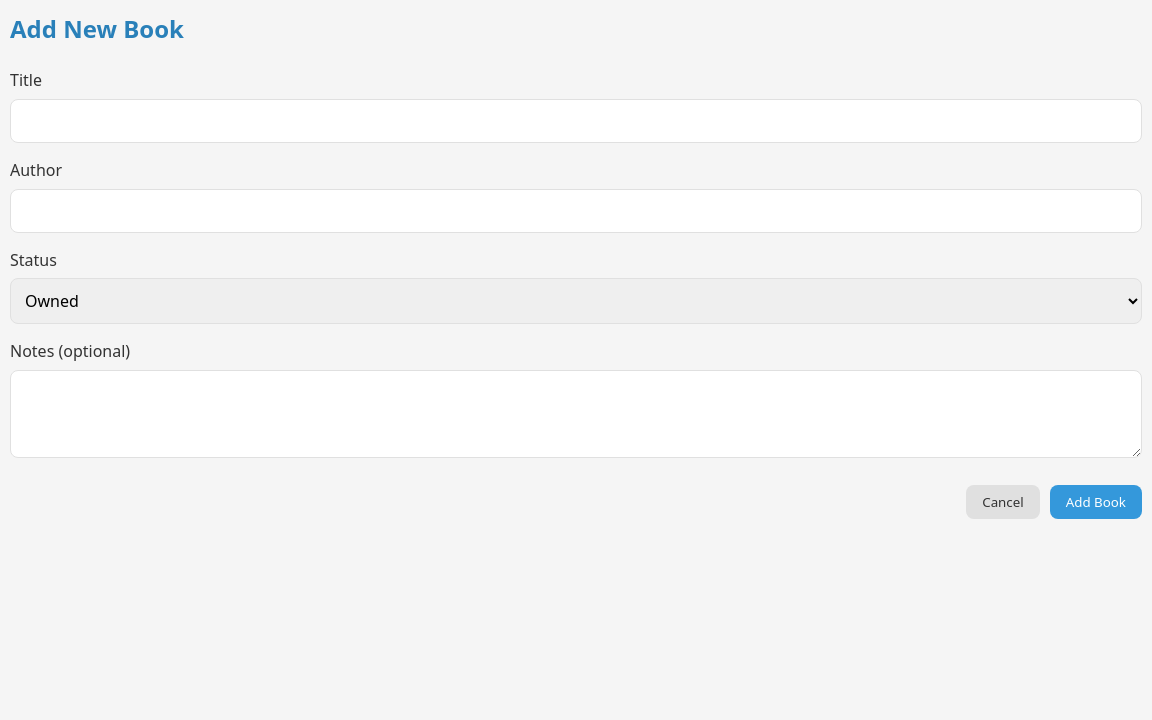
BookForm Component › clears validation errors when valid input is provided
Click the button "Add Book".
click(1096, 502)  # box [1050,485,1142,519]
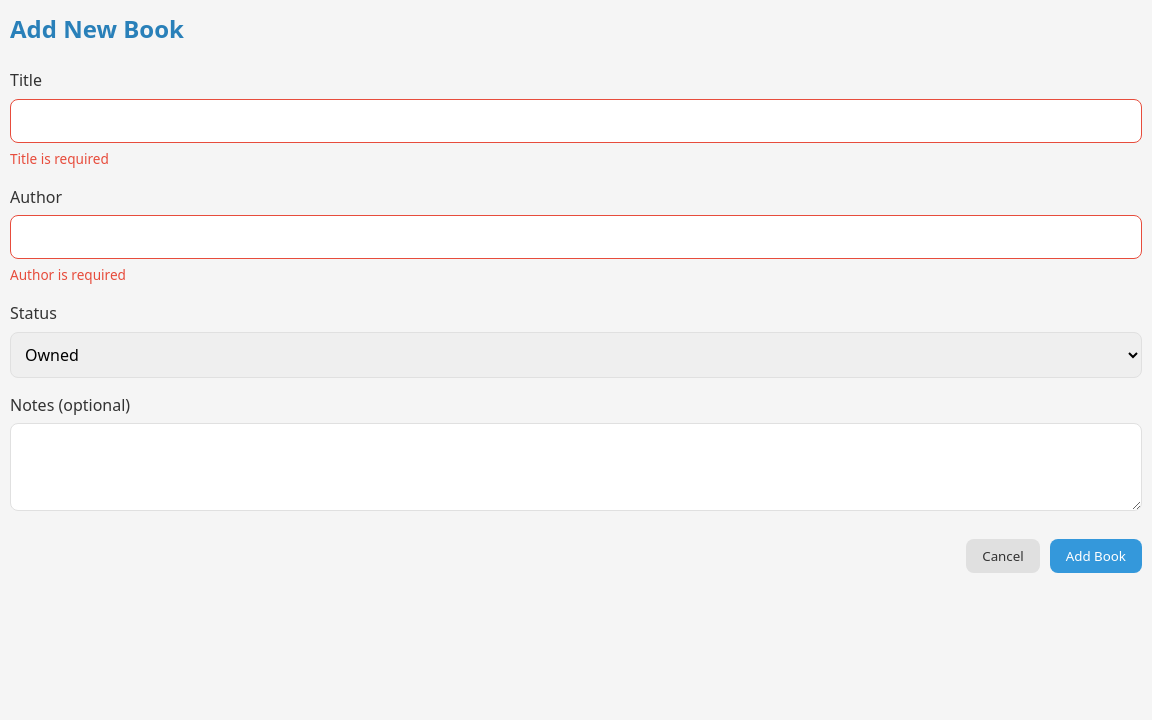
Type "New Title" into the field labelled "Title".
click(576, 121); type("New Title")  # box [10,99,1142,143]
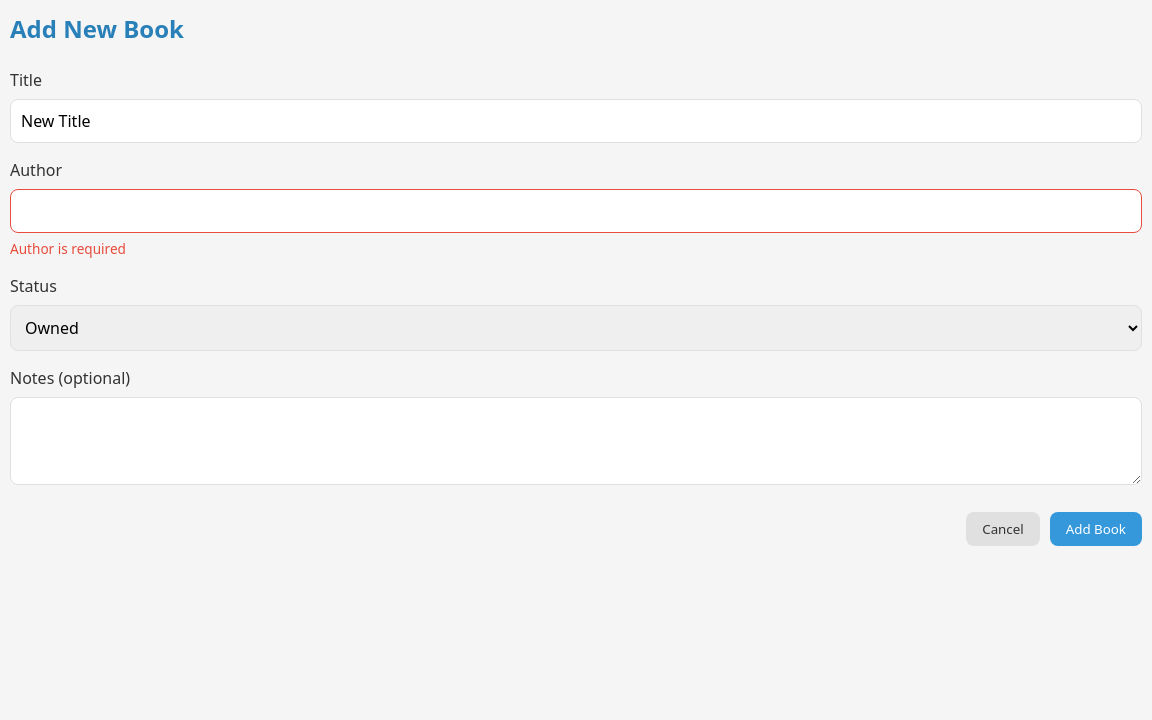
expect the text "Title is required" is gone: met
